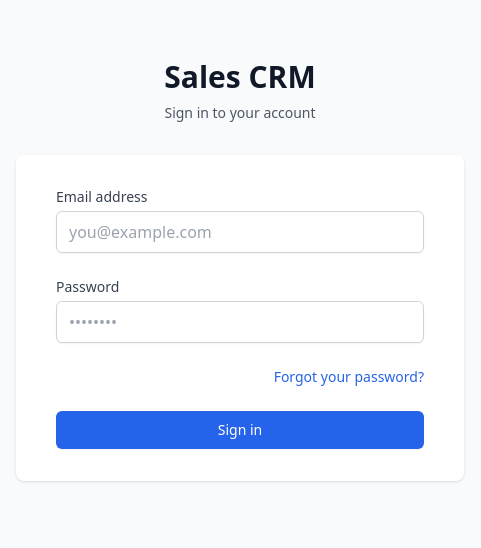
Test: LoginPage › shows ACCOUNT_LOCKED error message
The width and height of the screenshot is (481, 548).
Type "a@b.com" into the field labelled "Email address" at (240, 232), box x1=56 y1=211 x2=424 y2=253
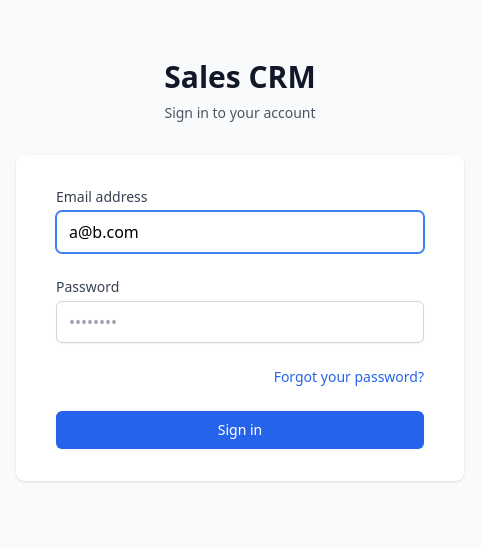
Type "pass" into the password field labelled "Password" at (240, 322), box x1=56 y1=301 x2=424 y2=343
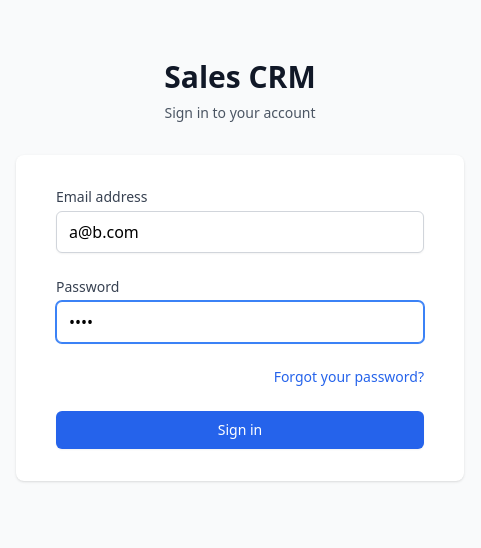
Click the button "Sign in" at (240, 430), box x1=56 y1=411 x2=424 y2=449
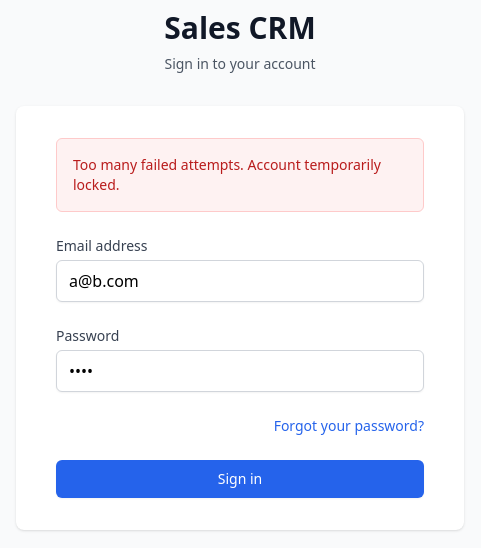
Result: the message shows "temporarily locked" at x1=73 y1=155 x2=381 y2=194
